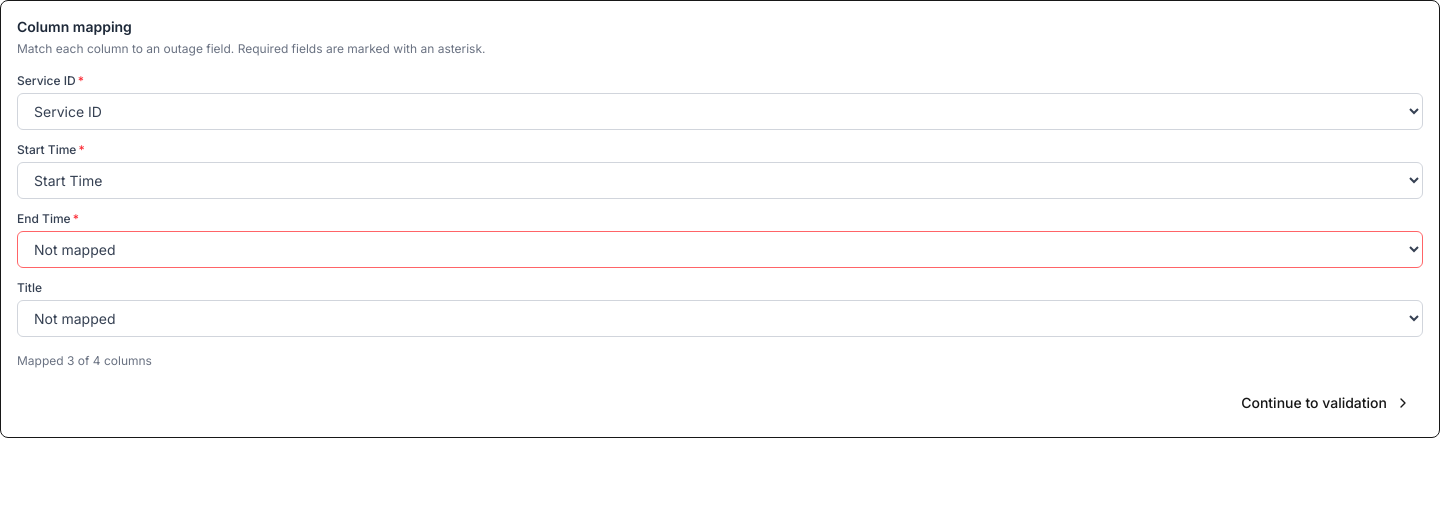
Test: ColumnMapper › blocks with an inline error while a field is unmapped
Expected: the text "Map every required column" is not shown
Click the button "Continue to validation" at (1326, 403), box left=1229, top=385, right=1423, bottom=421
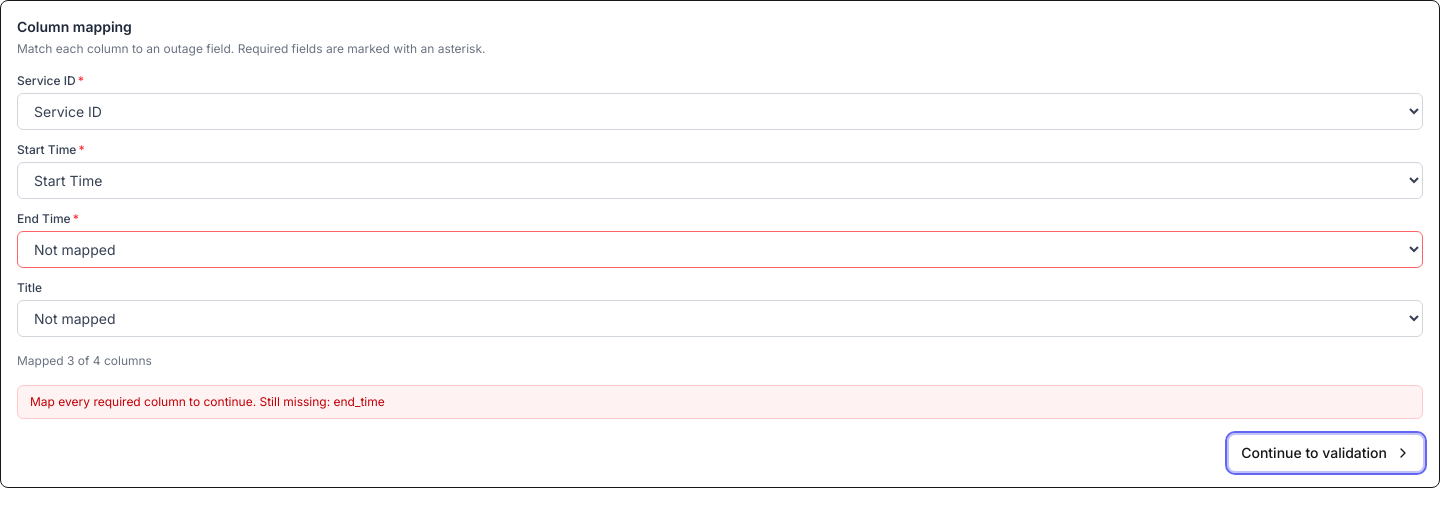
Expected: the text "Map every required column to continue. Still missing: end_time" is shown, left=17, top=385, right=1423, bottom=419
